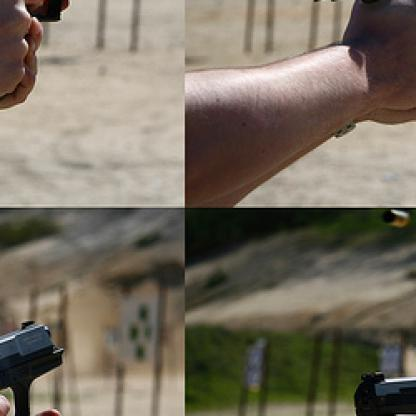gun: (306, 0, 414, 73), (0, 311, 73, 414), (0, 0, 117, 43), (336, 355, 414, 414)
